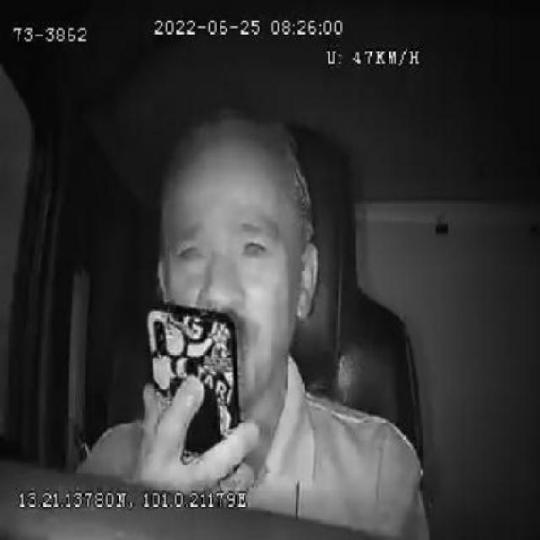phone: (147, 308, 241, 501)
